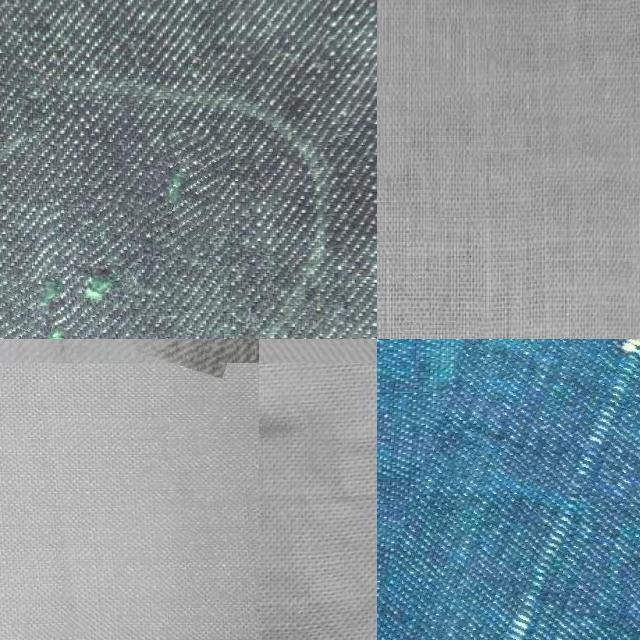Thread_other: (377, 339, 640, 640), (34, 195, 138, 339), (142, 130, 224, 257), (0, 267, 38, 339)
